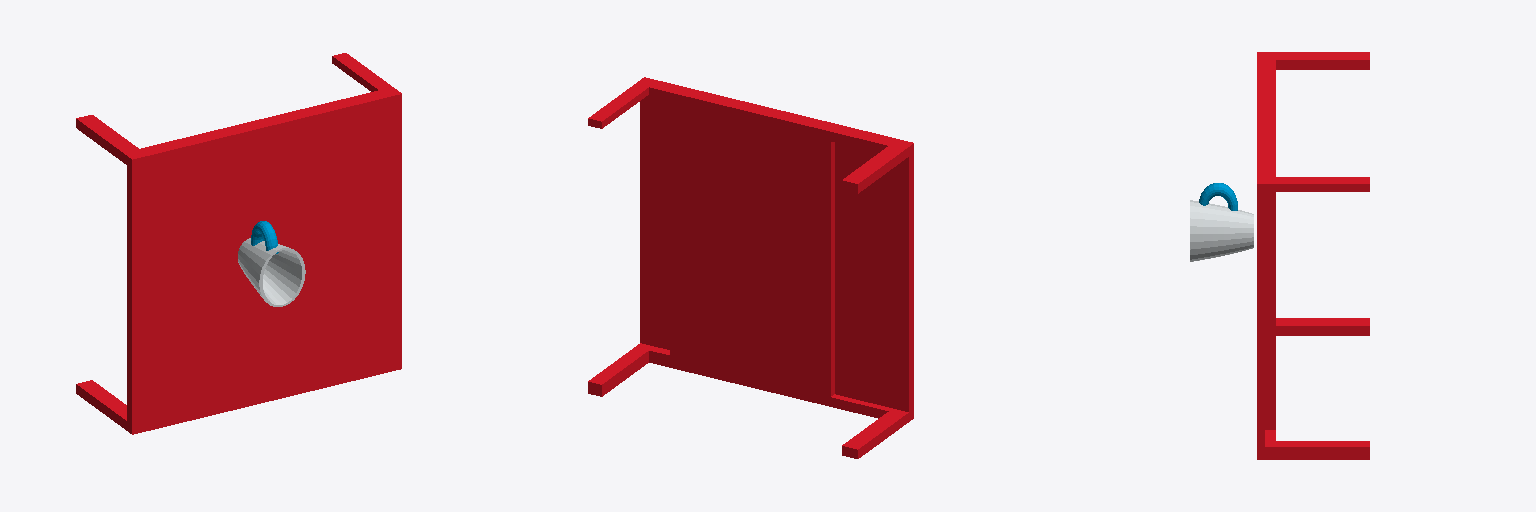
Rendered from tinker.obj.
3 renders of one model, left to right at view 1: azimuth 30°, elevation 25°; view 2: azimuth 150°, elevation 25°; view 3: azimuth 270°, elevation 25°, orthographic.
Parts seen in each view (by area): view 1: obj_0; view 2: obj_0; view 3: obj_0.
Part boxes in pixels (x1,y1,x2,y2): obj_0: (76, 53, 401, 434); obj_0: (588, 77, 913, 458); obj_0: (1190, 52, 1369, 459).
Size of the model in its own units: 116 by 113 by 67.